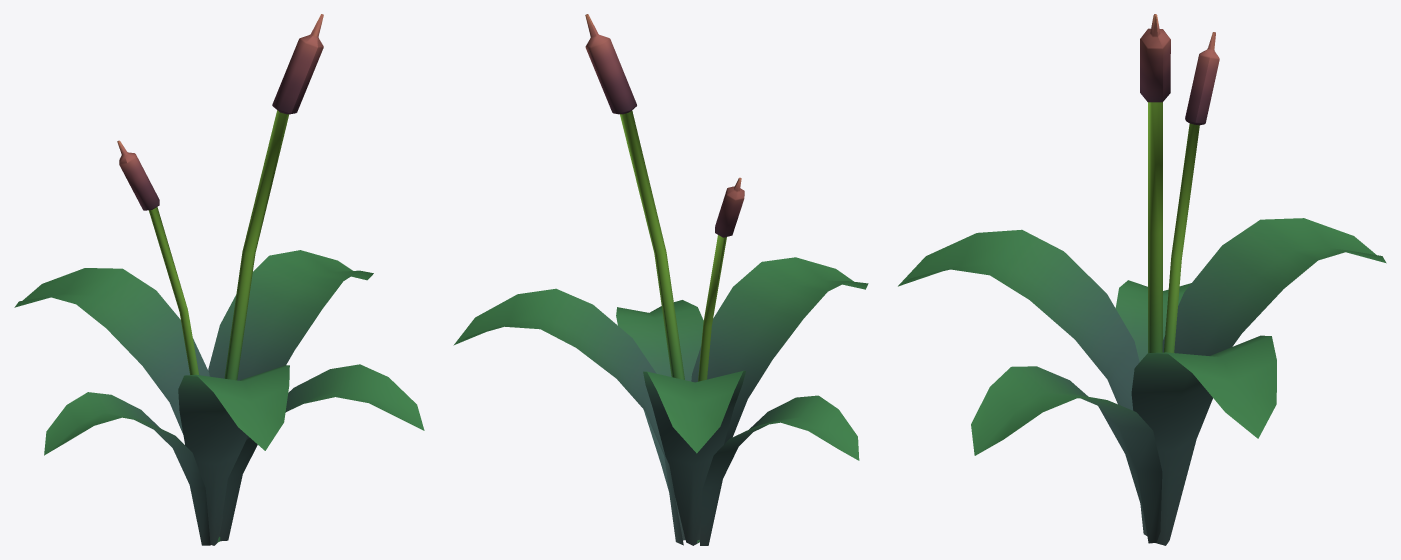
File: plant_36.fbx
The picture shows the model from 3 angles, left to right: view 1: azimuth 30°, elevation 25°; view 2: azimuth 150°, elevation 25°; view 3: azimuth 270°, elevation 25°; orthographic projection. The views are drawn at different scales.
Visible parts, largest first — view 1: plant_36; view 2: plant_36; view 3: plant_36.
Part boxes in pixels (x1=…): plant_36: x1=14, y1=14, x2=424, y2=545; plant_36: x1=453, y1=14, x2=868, y2=545; plant_36: x1=898, y1=14, x2=1386, y2=545.
Size of the model in its own units: 2.53 by 3.32 by 2.52.
